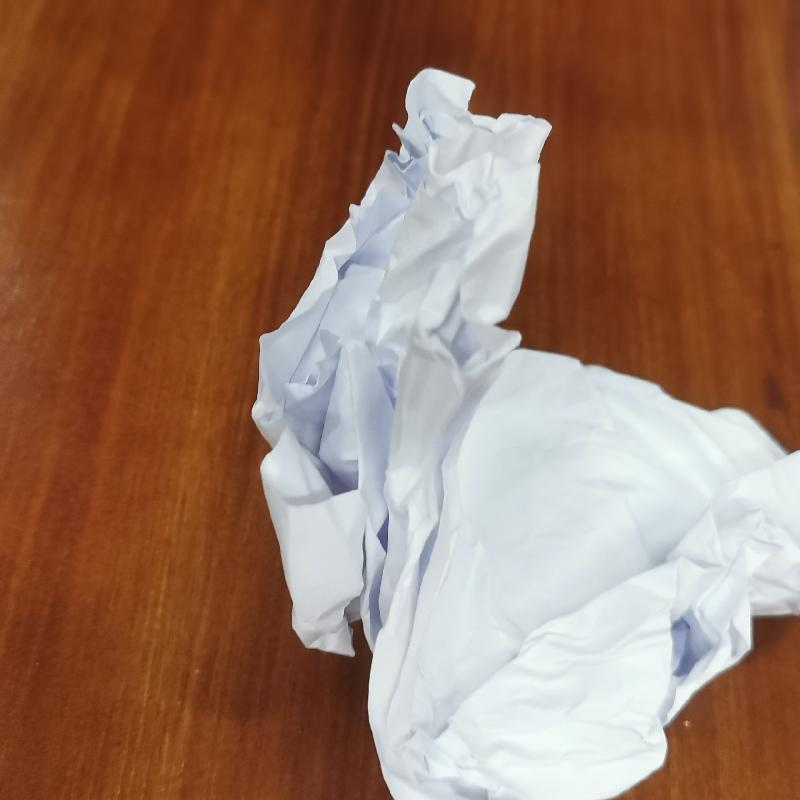spitball: (242, 64, 800, 800)
